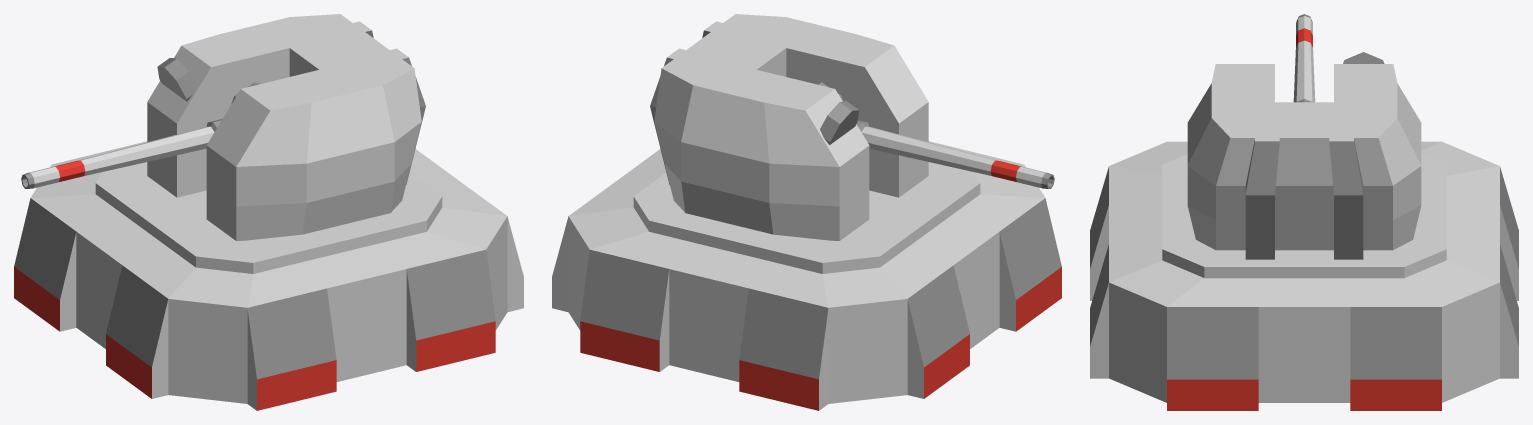
Rendered from turret.fbx.
3 views of the same model, side by side, from view 1: azimuth 30°, elevation 25°; view 2: azimuth 150°, elevation 25°; view 3: azimuth 270°, elevation 25° (orthographic).
Visible parts, largest first — view 1: Cube, Cube.001, Cylinder.001, Cylinder.002; view 2: Cube, Cube.001, Cylinder.001, Cylinder.002; view 3: Cube, Cube.001, Cylinder.001.
Boxes of the visible parts, <box> form: Cube: <box>14,141,523,410</box>; Cube.001: <box>147,14,425,240</box>; Cylinder.001: <box>21,119,222,188</box>; Cylinder.002: <box>157,58,196,101</box>; Cube: <box>552,141,1061,410</box>; Cube.001: <box>650,14,928,240</box>; Cylinder.001: <box>856,120,1054,188</box>; Cylinder.002: <box>820,101,859,144</box>; Cube: <box>1090,141,1518,410</box>; Cube.001: <box>1187,64,1421,259</box>; Cylinder.001: <box>1293,14,1315,102</box>.
Bounding box in the file's own units: 558 × 295 × 483.
